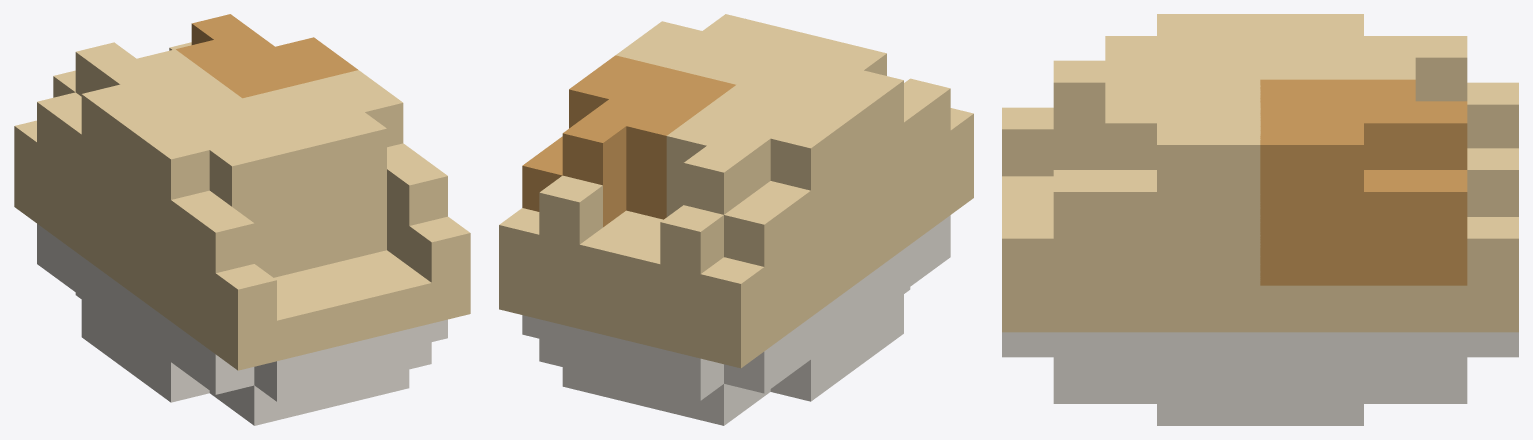
File: puppy__body.obj
3 renders of one model, left to right at view 1: azimuth 30°, elevation 25°; view 2: azimuth 150°, elevation 25°; view 3: azimuth 270°, elevation 25°, orthographic. The views are drawn at different scales.
Parts seen in each view (by area): view 1: puppy__body; view 2: puppy__body; view 3: puppy__body.
Boxes of the visible parts, left/top/right/bottom form: puppy__body: left=14, top=14, right=470, bottom=425; puppy__body: left=499, top=14, right=973, bottom=425; puppy__body: left=1002, top=14, right=1518, bottom=425.
Bounding box in the file's own units: 0.6 × 0.6 × 1.
1 material, 1 textured.
